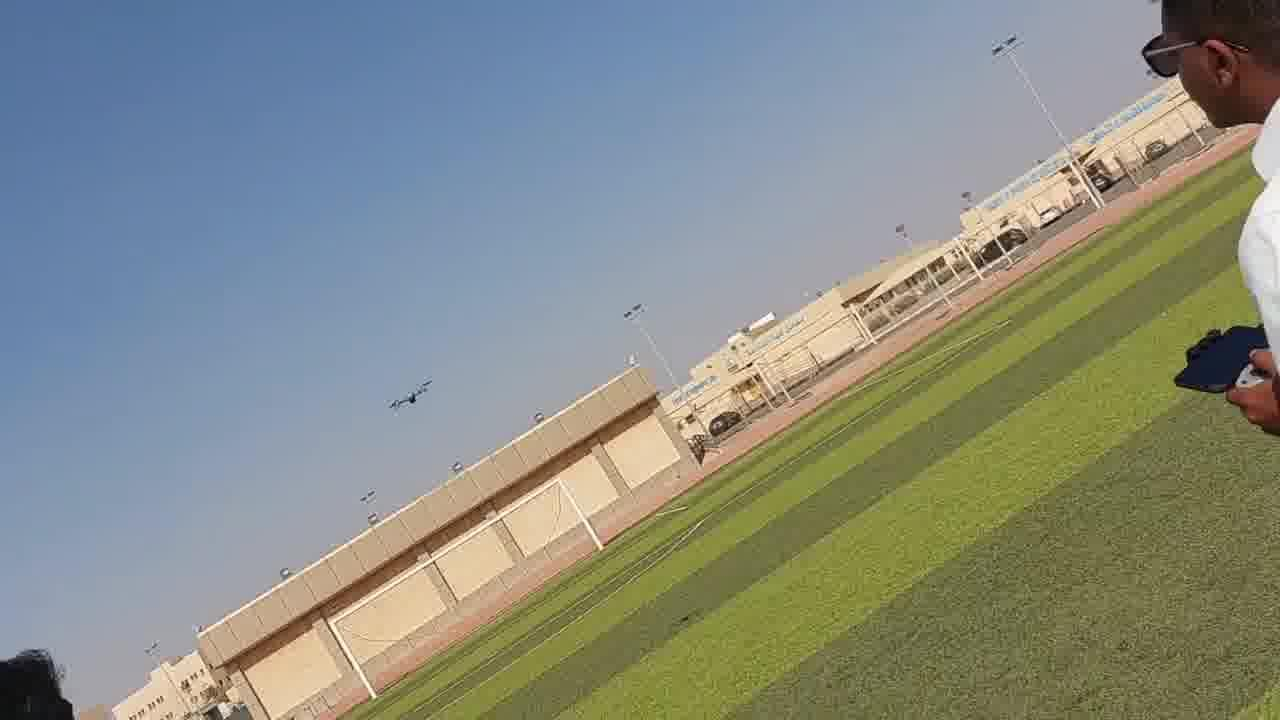drone: (384, 373, 440, 428)
